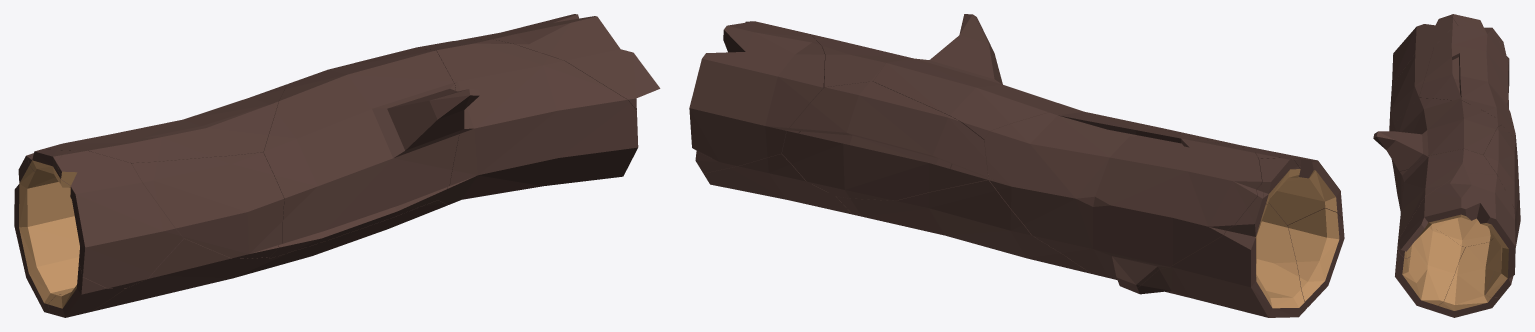
Rendered from Log crashed 1.fbx.
3 views of the same model, side by side, from view 1: azimuth 30°, elevation 25°; view 2: azimuth 150°, elevation 25°; view 3: azimuth 270°, elevation 25° (orthographic). The views are drawn at different scales.
Parts seen in each view (by area): view 1: Log 1.001_cell.008, Log 1.001_cell.002, Log 1.001_cell.010, Log 1.001_cell.007, Log 1.001_cell.001, Log 1.001_cell.006, Log 1.001_cell.003, Log 1.001_cell.005, Log 1.001_cell.011, Log 1.001_cell; view 2: Log 1.001_cell.006, Log 1.001_cell.009, Log 1.001_cell.003, Log 1.001_cell.007, Log 1.001_cell.008, Log 1.001_cell.005, Log 1.001_cell.004, Log 1.001_cell.011, Log 1.001_cell.001, Log 1.001_cell.002, Log 1.001_cell; view 3: Log 1.001_cell.002, Log 1.001_cell.006, Log 1.001_cell.003, Log 1.001_cell.008, Log 1.001_cell.004, Log 1.001_cell.009, Log 1.001_cell.010, Log 1.001_cell.001, Log 1.001_cell.005, Log 1.001_cell, Log 1.001_cell.007.
Boxes of the visible parts, box(x1,y1,x2,y2) form: Log 1.001_cell.008: box(263, 49, 479, 258); Log 1.001_cell.002: box(423, 39, 638, 204); Log 1.001_cell.010: box(131, 152, 284, 258); Log 1.001_cell.007: box(14, 154, 269, 313); Log 1.001_cell.001: box(56, 150, 183, 288); Log 1.001_cell.006: box(32, 84, 287, 163); Log 1.001_cell.003: box(456, 14, 660, 110); Log 1.001_cell.005: box(259, 200, 447, 270); Log 1.001_cell.011: box(48, 263, 126, 317); Log 1.001_cell: box(27, 149, 75, 187); Log 1.001_cell.006: box(984, 112, 1261, 288); Log 1.001_cell.009: box(781, 81, 988, 200); Log 1.001_cell.003: box(689, 21, 824, 173); Log 1.001_cell.007: box(1114, 184, 1306, 317); Log 1.001_cell.008: box(873, 14, 1122, 141); Log 1.001_cell.005: box(836, 164, 1091, 273); Log 1.001_cell.004: box(704, 153, 852, 214); Log 1.001_cell.011: box(1288, 208, 1344, 307); Log 1.001_cell.001: box(1238, 147, 1342, 225); Log 1.001_cell.002: box(799, 34, 918, 132); Log 1.001_cell: box(1259, 158, 1300, 204); Log 1.001_cell.002: box(1395, 149, 1496, 310); Log 1.001_cell.006: box(1419, 23, 1516, 140); Log 1.001_cell.003: box(1397, 173, 1515, 297); Log 1.001_cell.008: box(1373, 98, 1501, 207); Log 1.001_cell.004: box(1432, 232, 1517, 317); Log 1.001_cell.009: box(1483, 125, 1520, 236); Log 1.001_cell.010: box(1389, 47, 1433, 131); Log 1.001_cell.001: box(1391, 16, 1457, 86); Log 1.001_cell.005: box(1431, 141, 1516, 246); Log 1.001_cell: box(1448, 14, 1489, 28); Log 1.001_cell.007: box(1485, 27, 1509, 92).
Bounding box in the file's own units: 4.75 × 1.32 × 1.42.
